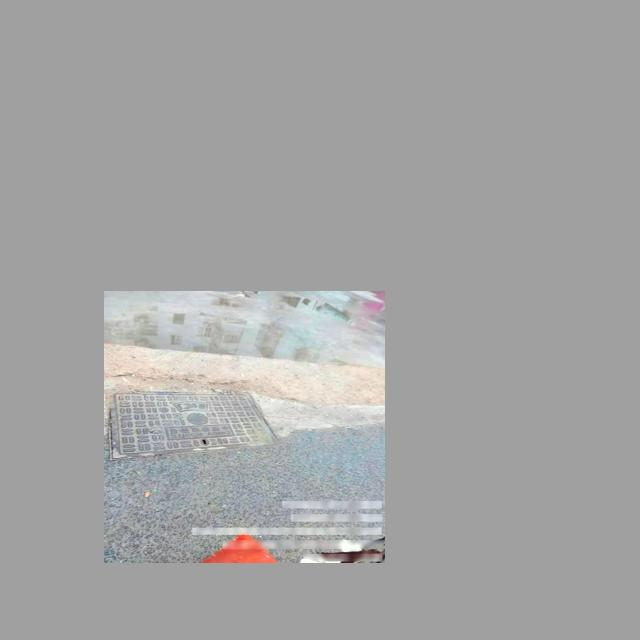good: (109, 392, 282, 462)
